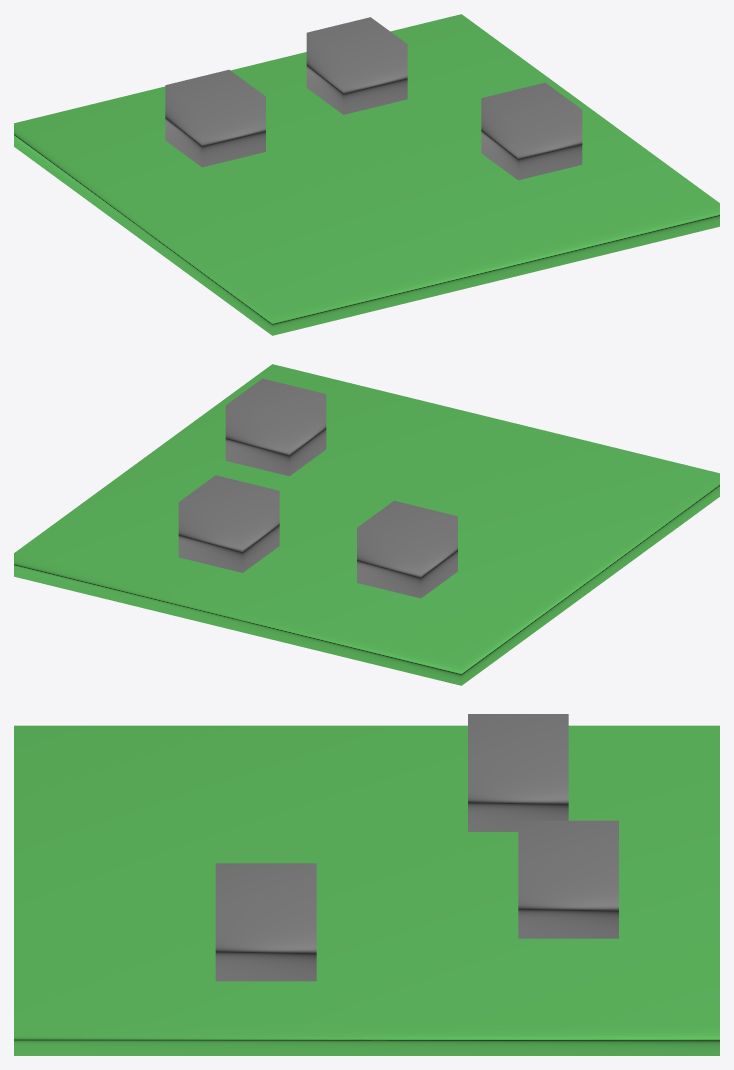
Rendered from motherboard.glb.
3 views of the same model, one above another, from view 1: azimuth 30°, elevation 25°; view 2: azimuth 150°, elevation 25°; view 3: azimuth 270°, elevation 25° (orthographic). The views are drawn at different scales.
Visible parts, largest first — view 1: Cube; view 2: Cube; view 3: Cube.
Boxes of the visible parts, x1,y1,x2,y2 form: Cube: (14,14,719,335); Cube: (14,364,719,685); Cube: (14,714,719,1055).
Bounding box in the file's own units: 0.14 × 0.0235 × 0.14.
